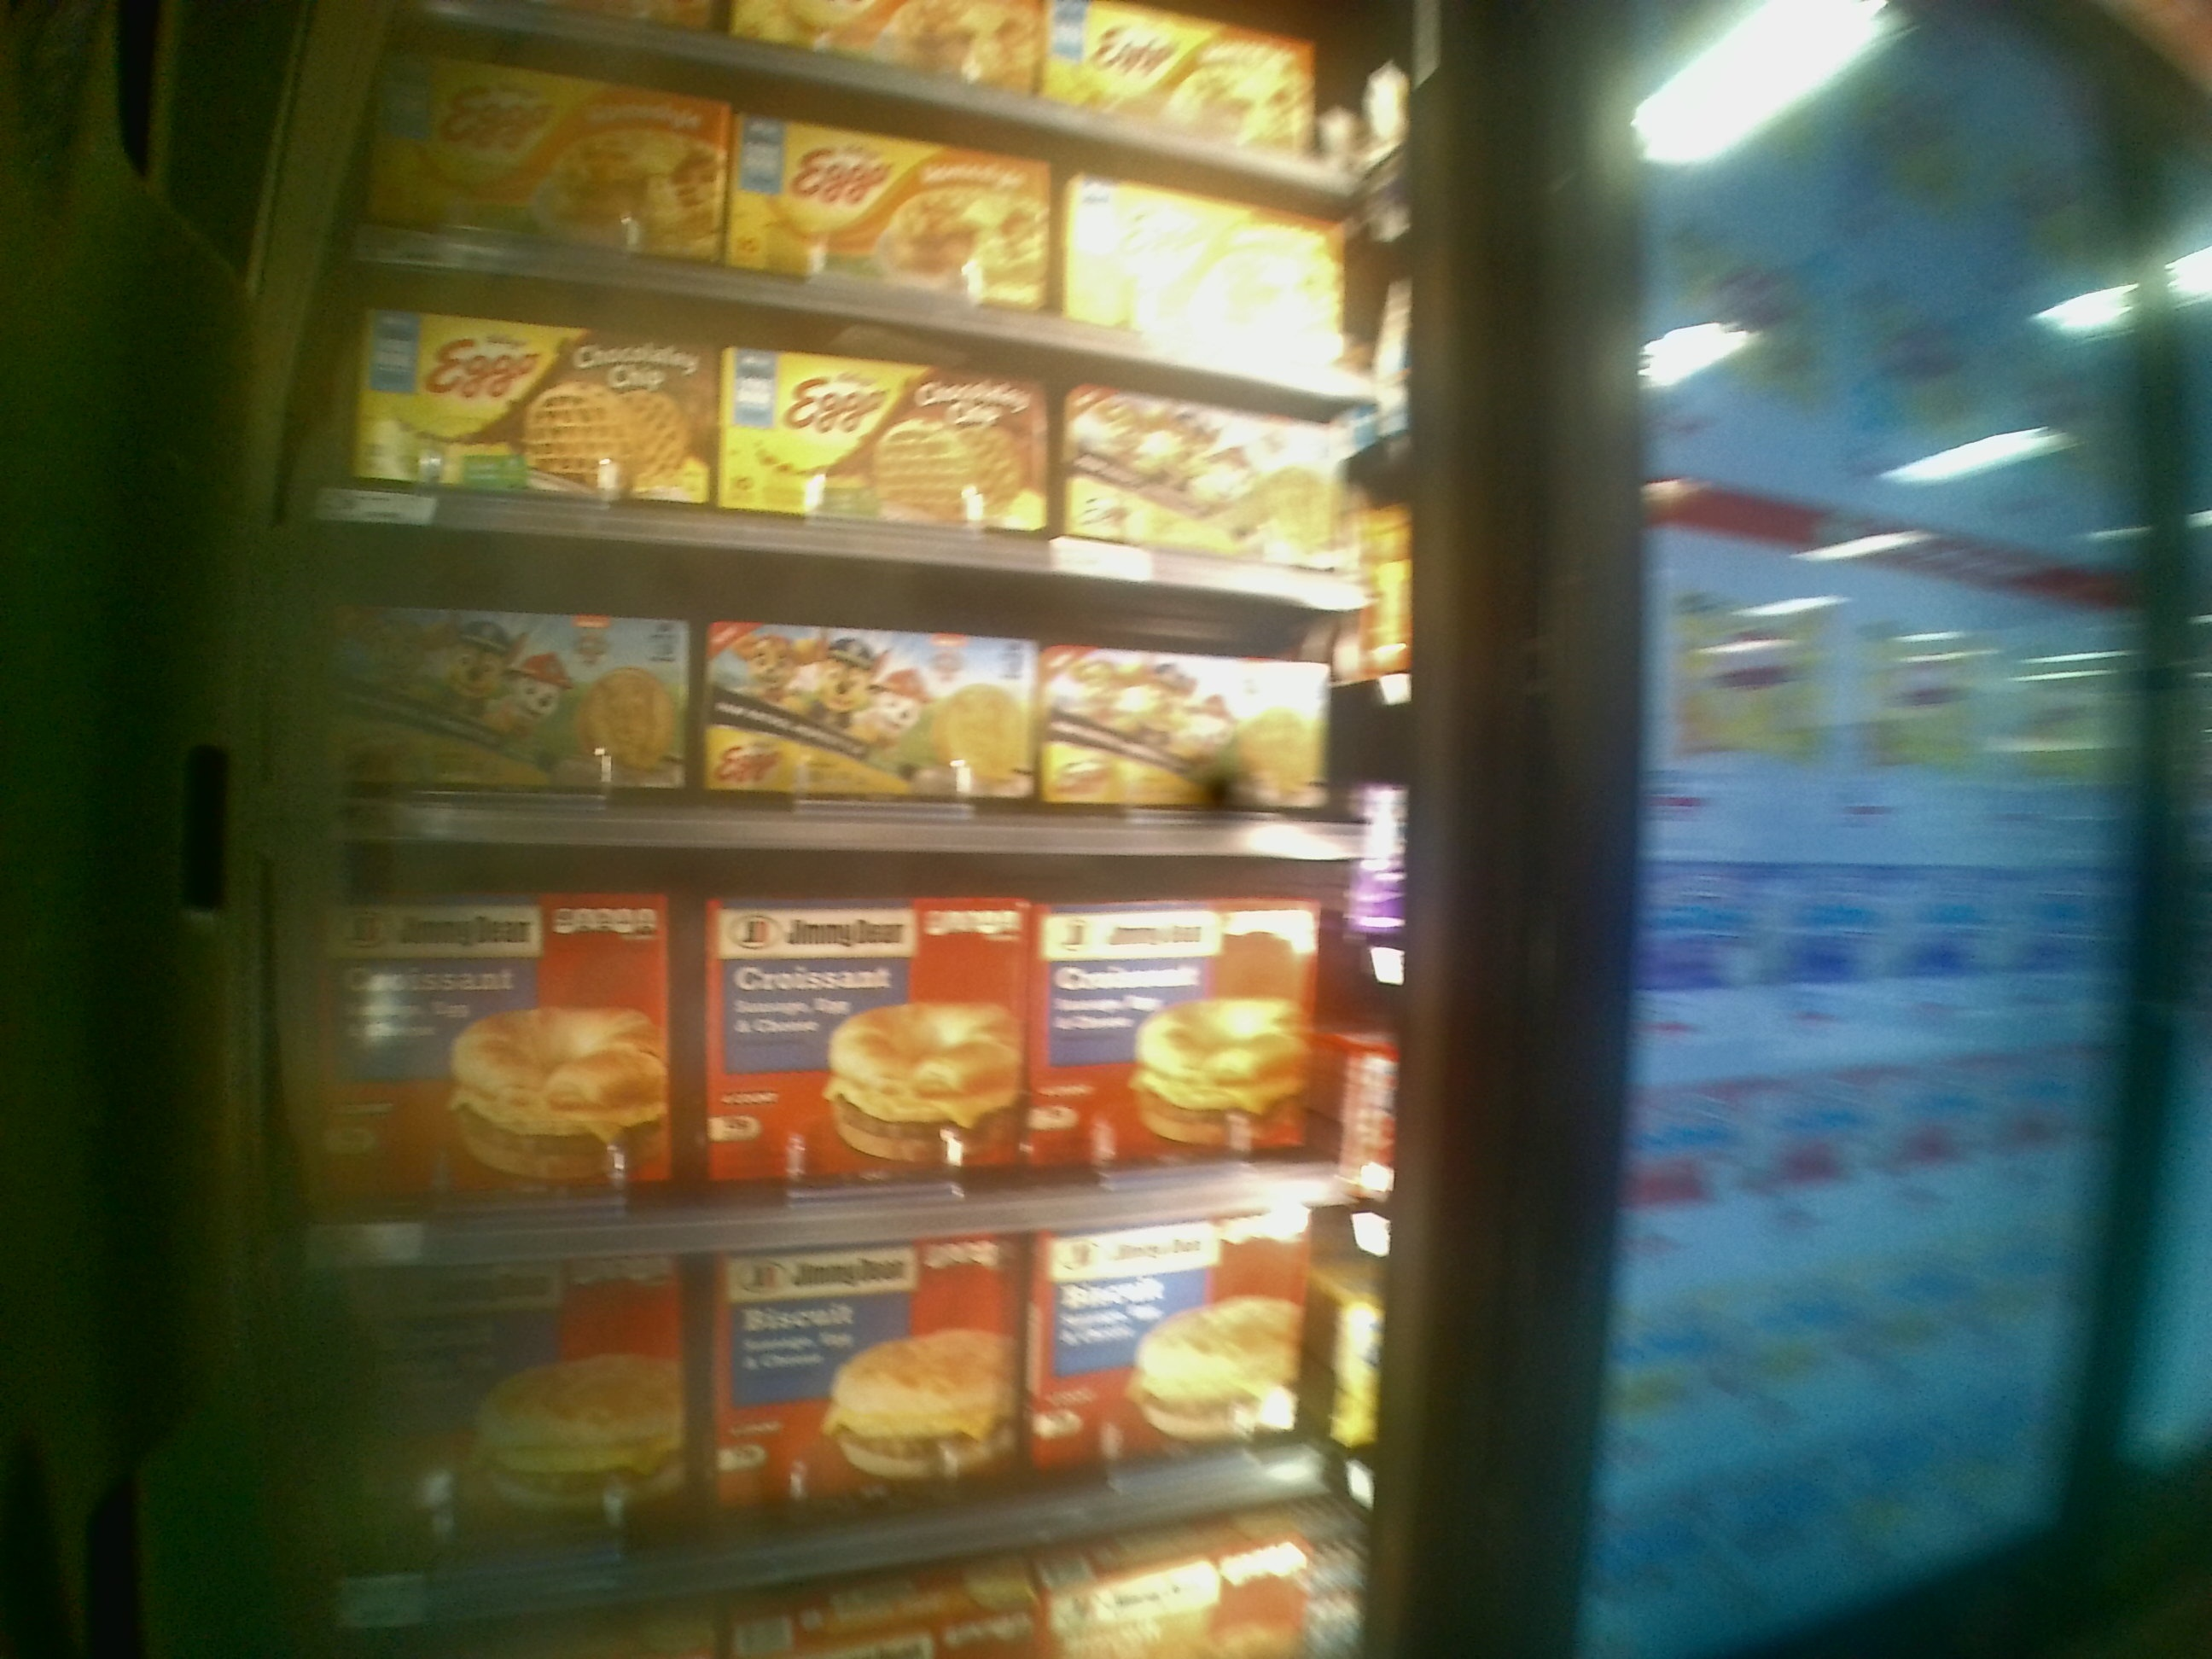shelf: (310, 1215, 1388, 1645), (319, 852, 1400, 1269), (329, 521, 1425, 863), (331, 256, 1385, 596)
